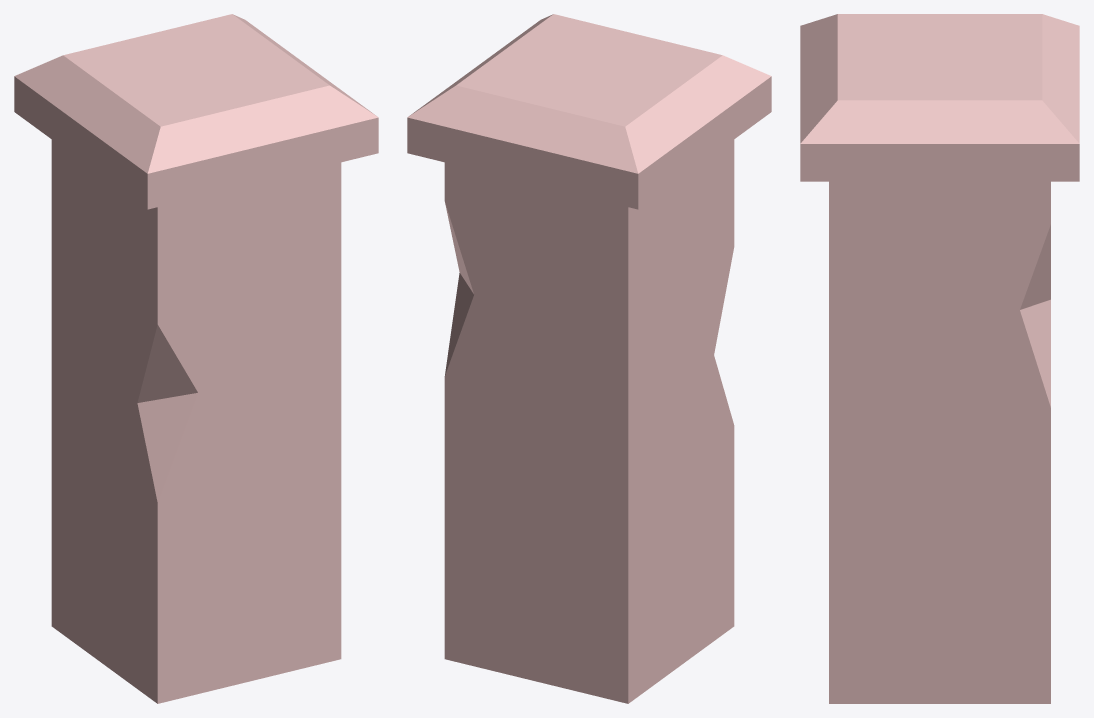
File: SM_Bld_Stone_Wall_End_01.glb
3 views of the same model, side by side, from view 1: azimuth 30°, elevation 25°; view 2: azimuth 150°, elevation 25°; view 3: azimuth 270°, elevation 25° (orthographic). The views are drawn at different scales.
Visible parts, largest first — view 1: SM_Bld_Stone_Wall_End_01_00; view 2: SM_Bld_Stone_Wall_End_01_00; view 3: SM_Bld_Stone_Wall_End_01_00.
Boxes of the visible parts, <box> form: SM_Bld_Stone_Wall_End_01_00: <box>14,14,378,703</box>; SM_Bld_Stone_Wall_End_01_00: <box>407,14,771,703</box>; SM_Bld_Stone_Wall_End_01_00: <box>800,14,1079,703</box>.
Size of the model in its own units: 0.6962 by 1.65 by 0.6962.
Materials: 1 (1 with a texture image).
